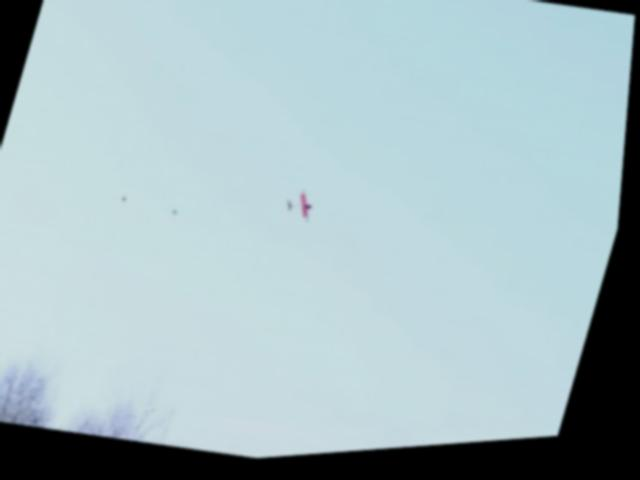uav: (277, 182, 333, 236)
